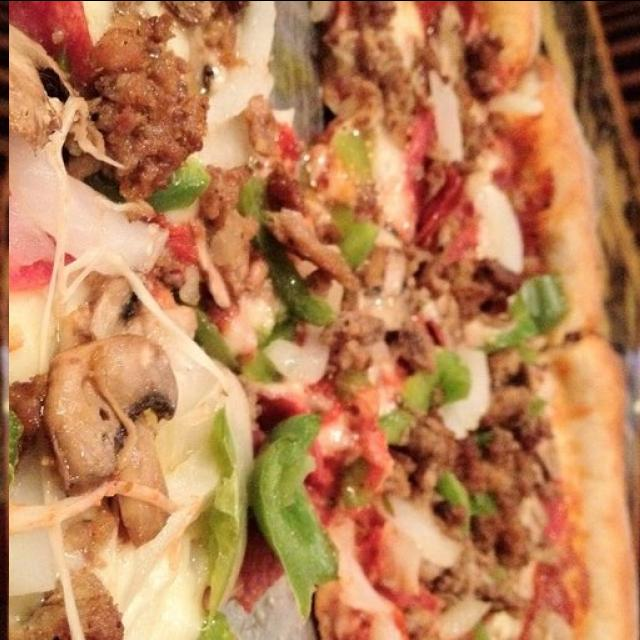pizza: (9, 0, 640, 639)
